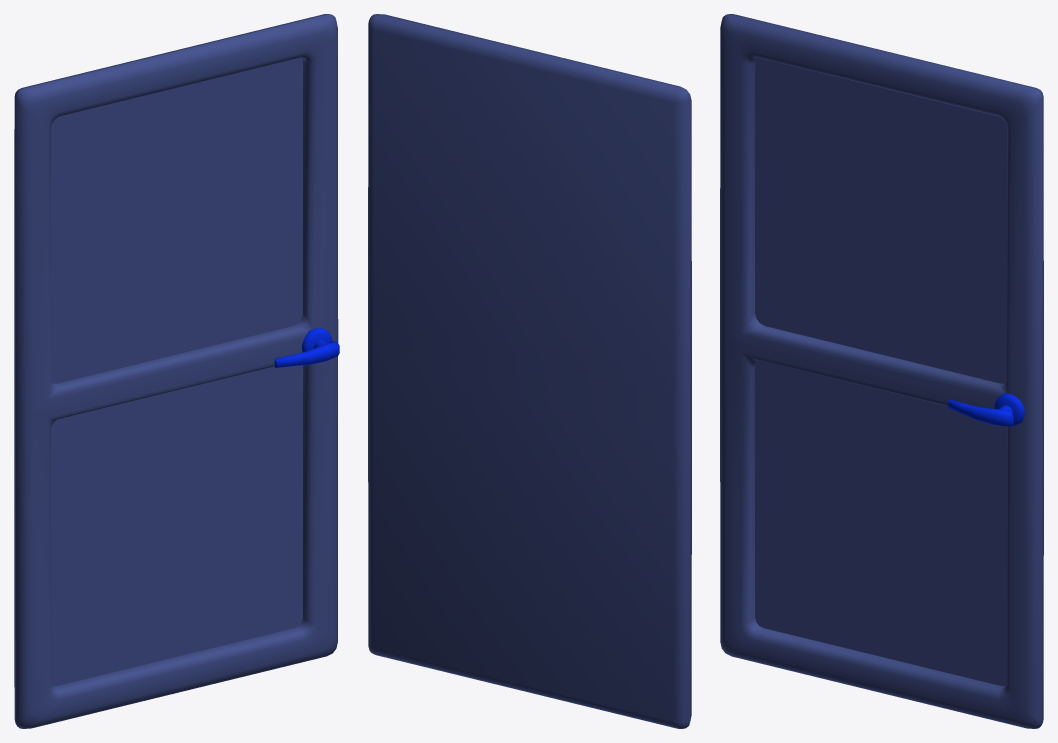
Rendered from FruitSensei_Door.fbx.
The picture shows the model from 3 angles, left to right: view 1: azimuth 30°, elevation 25°; view 2: azimuth 150°, elevation 25°; view 3: azimuth 330°, elevation 25°; orthographic projection.
Parts seen in each view (by area): view 1: Cube.006; view 2: Cube.006; view 3: Cube.006.
Boxes of the visible parts, left/top/right/bottom form: Cube.006: left=14, top=14, right=339, bottom=728; Cube.006: left=368, top=14, right=691, bottom=728; Cube.006: left=720, top=14, right=1043, bottom=728.
Bounding box in the file's own units: 198 × 379 × 28.88.
